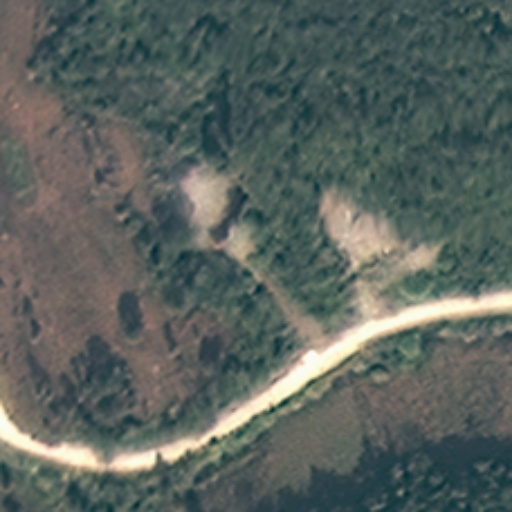landslide: (318, 191, 445, 312), (170, 159, 252, 235)
